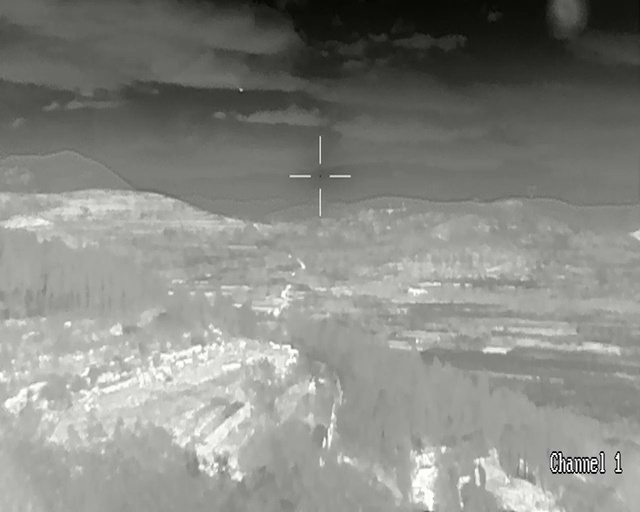uav: (239, 87, 242, 91)
